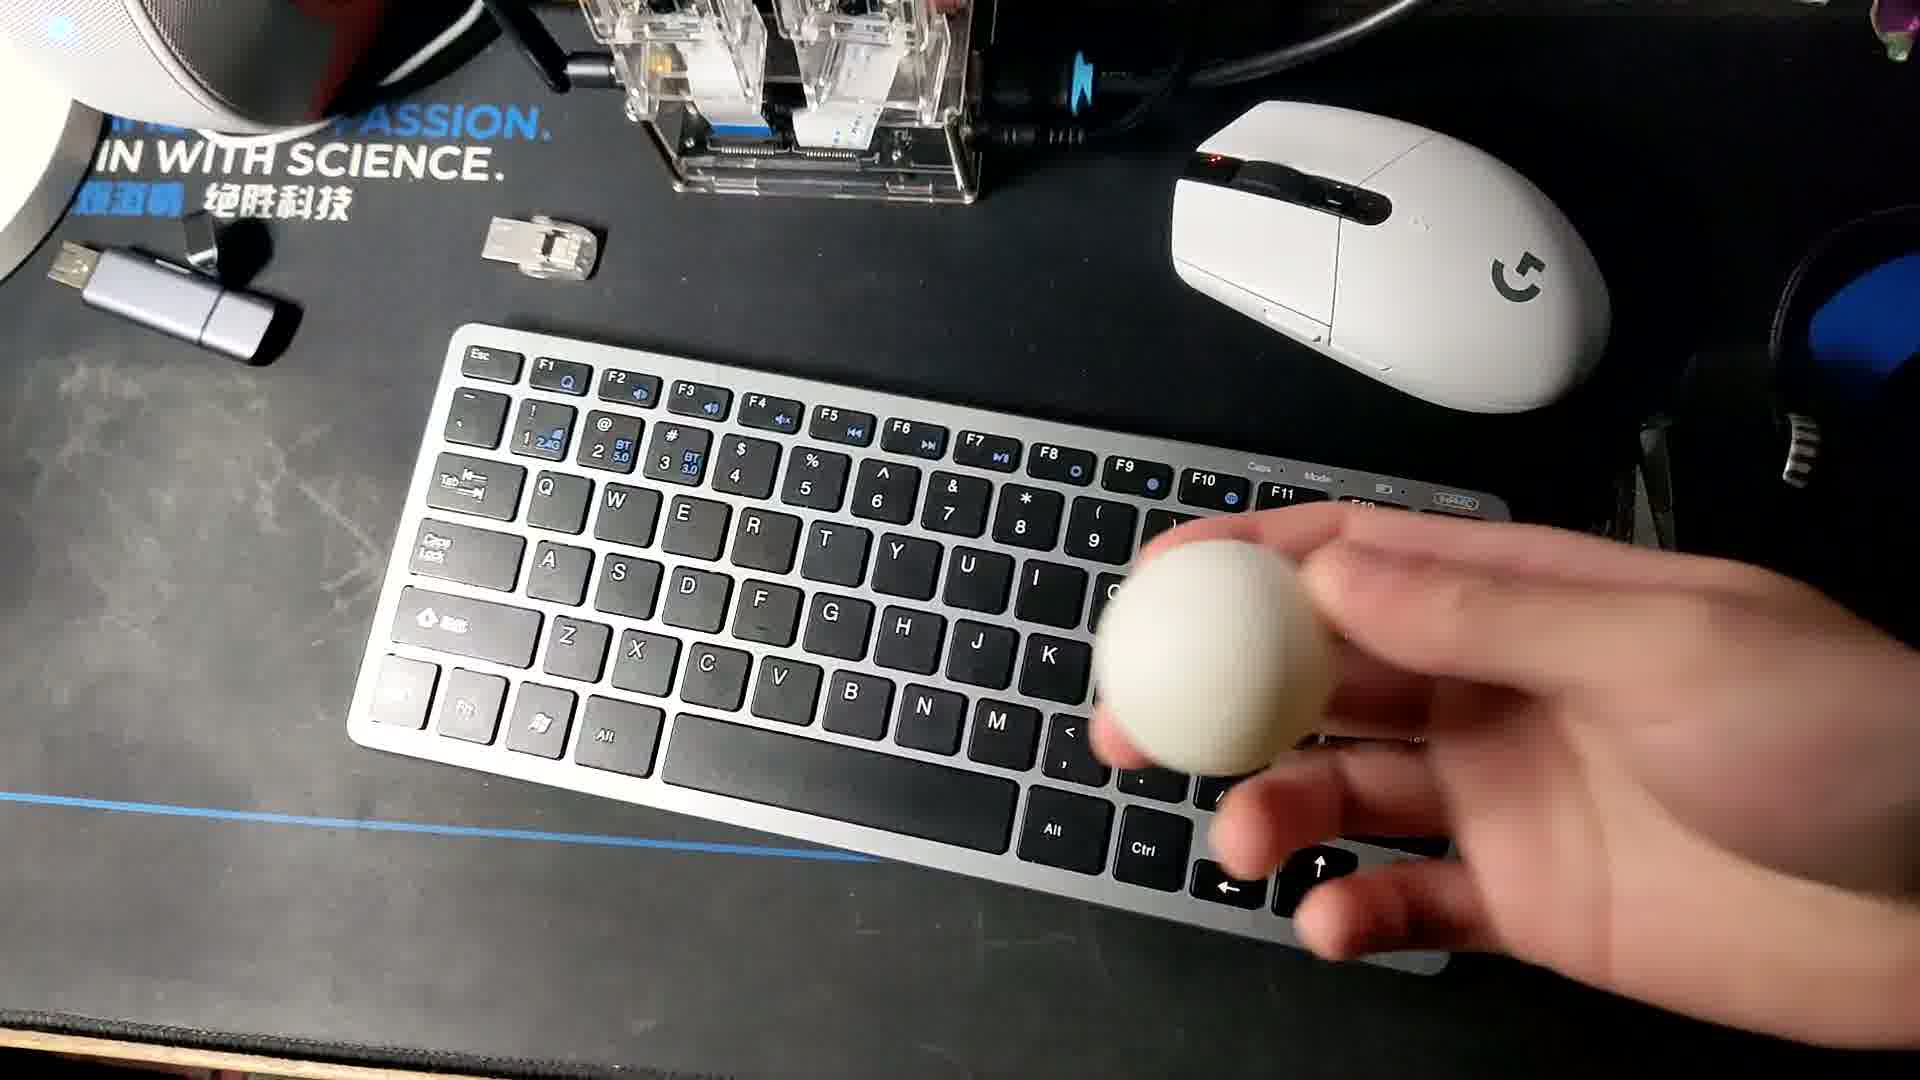Ball: (1088, 541, 1327, 775)
